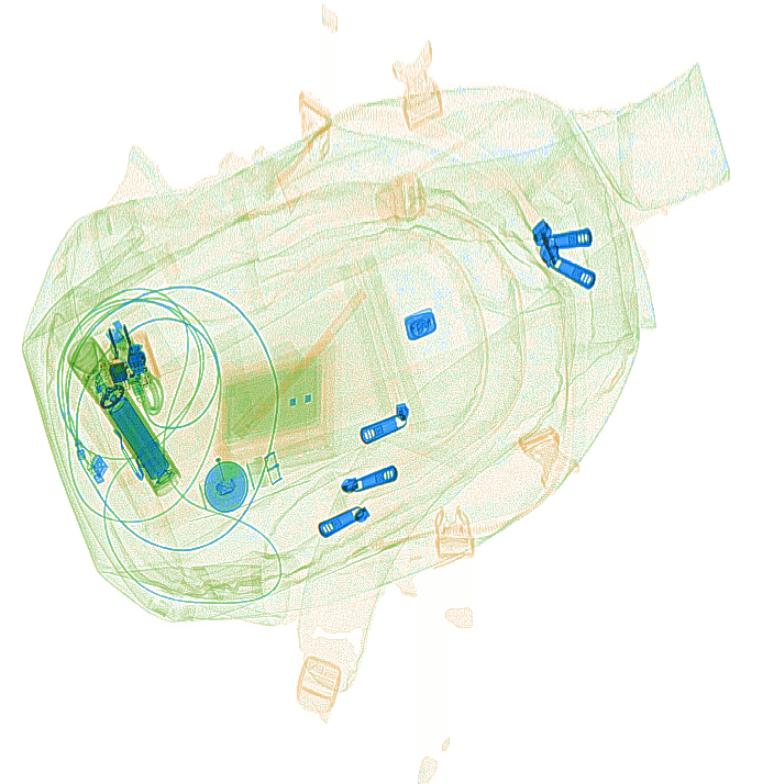battery: (106, 396, 169, 481)
